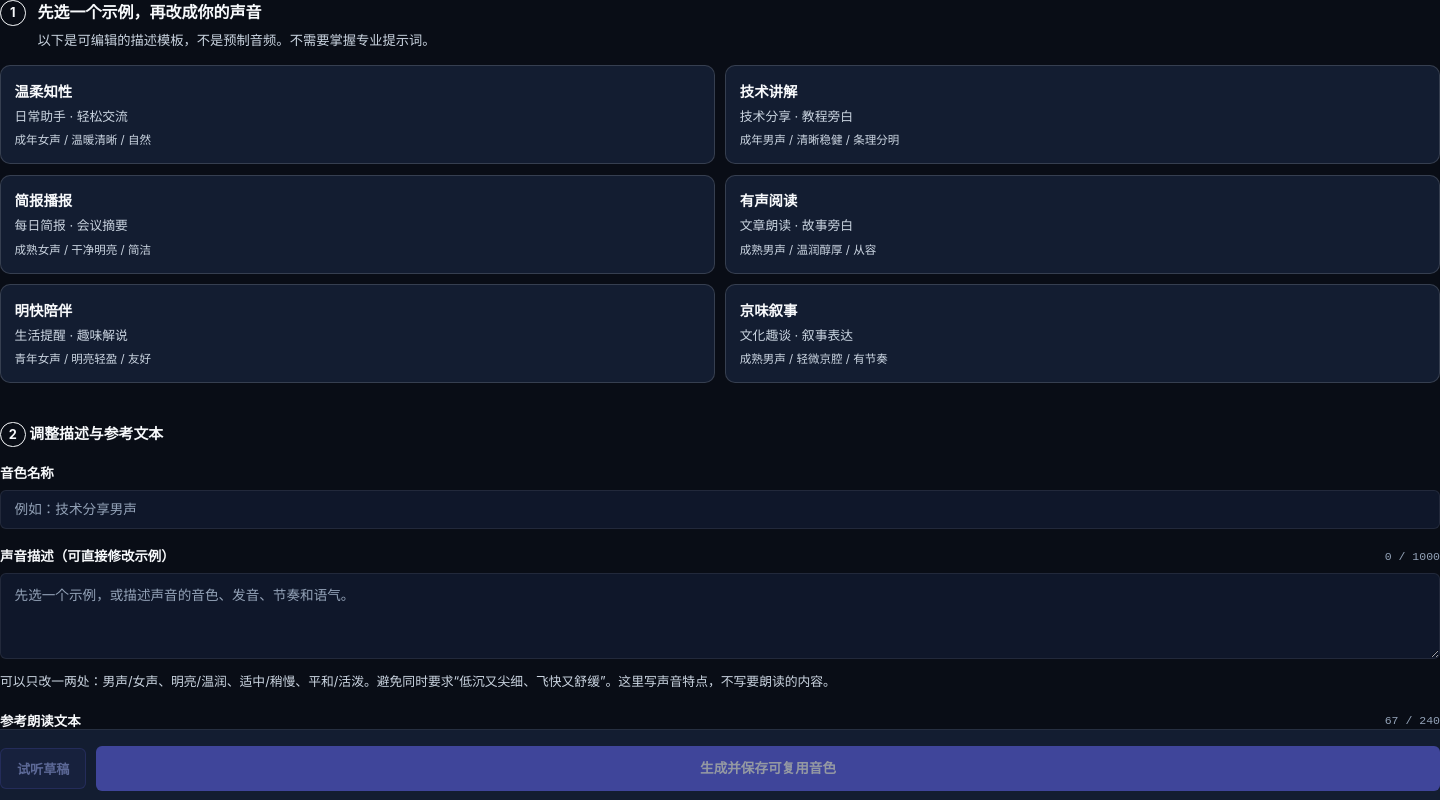
Test case: registers only through the explicit new endpoint and preserves output-unevaluated state
Click the button "温柔知性 日常助手 · 轻松交流 成年女声 / 温暖清晰 / 自然" at coordinates (43, 91), box 0,65 -> 715,164
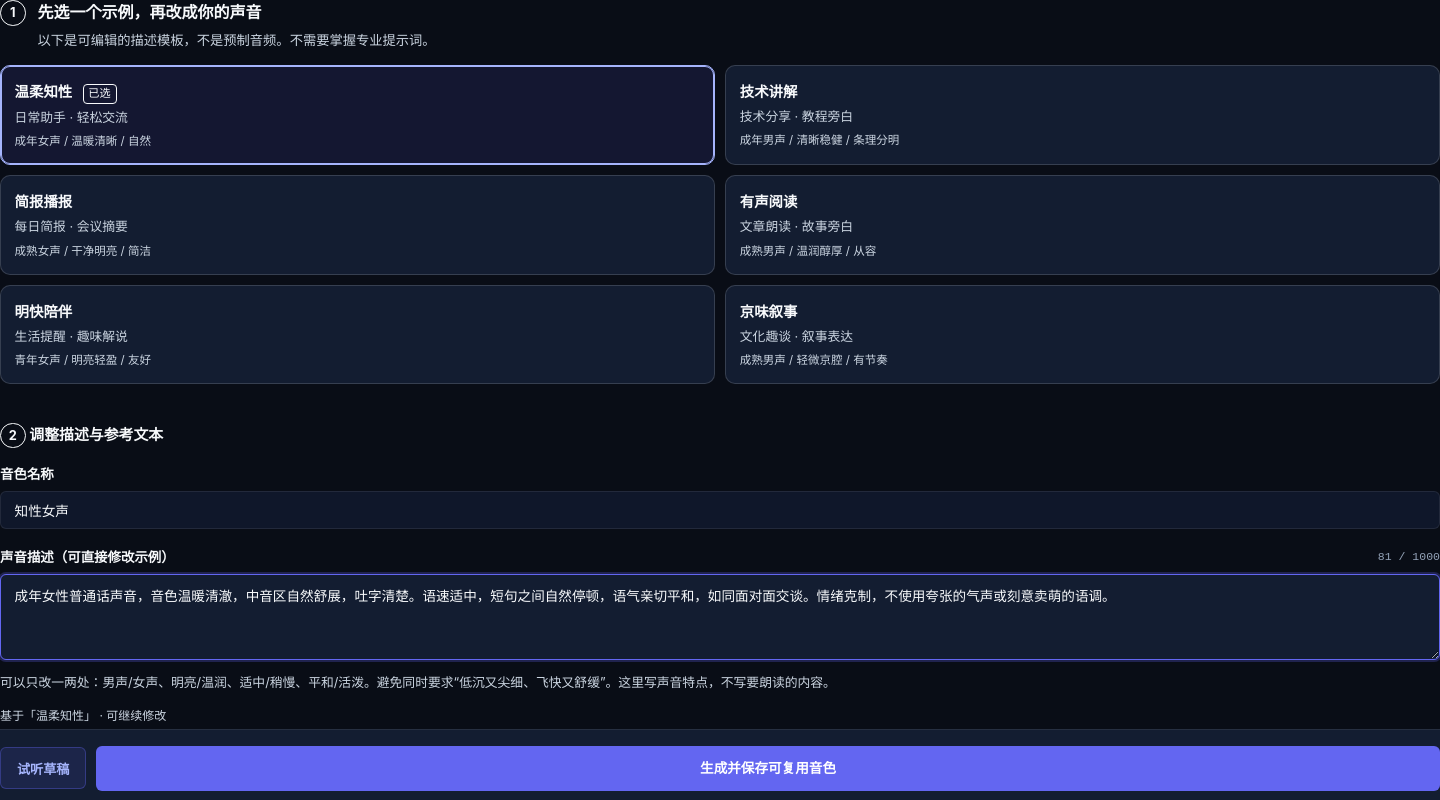
Click the button "生成并保存可复用音色" at coordinates (768, 768), box 96,746 -> 1439,791
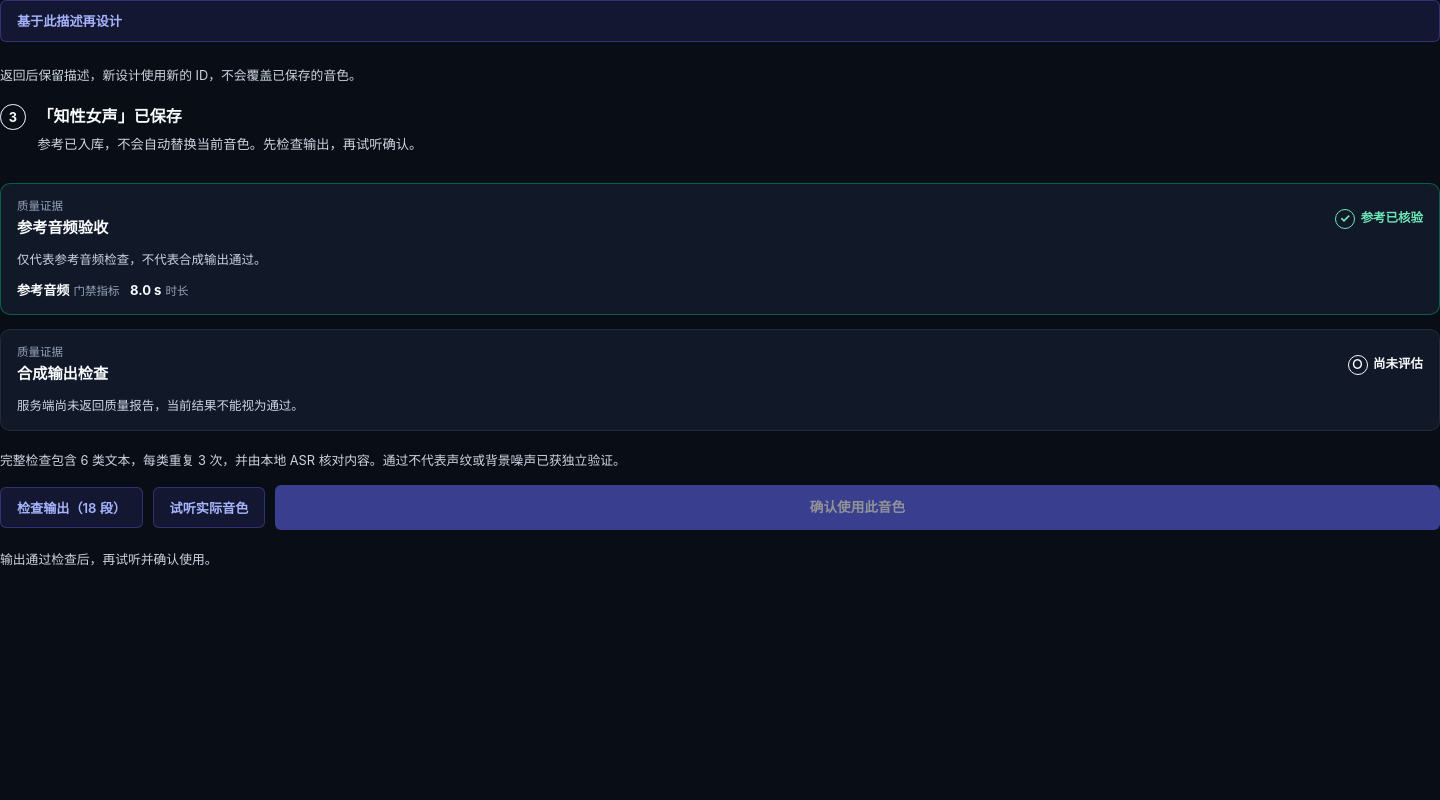
Now the text "参考已核验" is shown, box 1361,210 -> 1423,226
Now the text "尚未评估" is shown, box 1373,356 -> 1423,372
Now the button "确认使用此音色" is disabled, box 275,485 -> 1439,530
